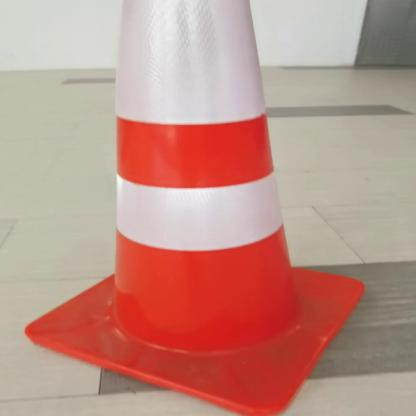cone: (19, 0, 372, 416)
